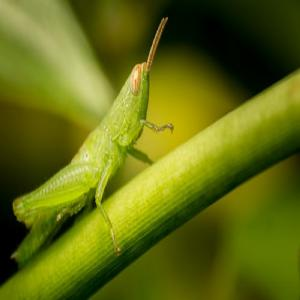locust: (23, 38, 164, 285)
